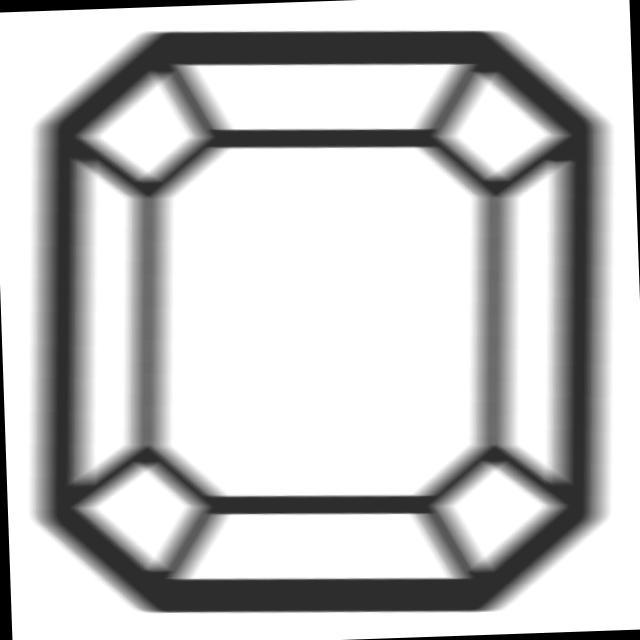emerald: (9, 10, 634, 633)
